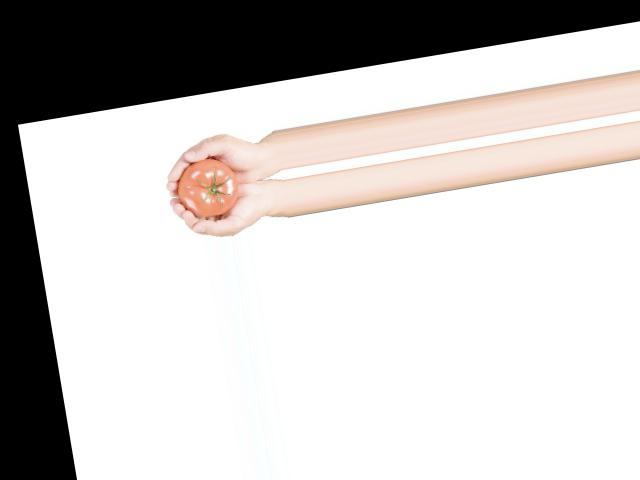tomato: (174, 154, 241, 221)
